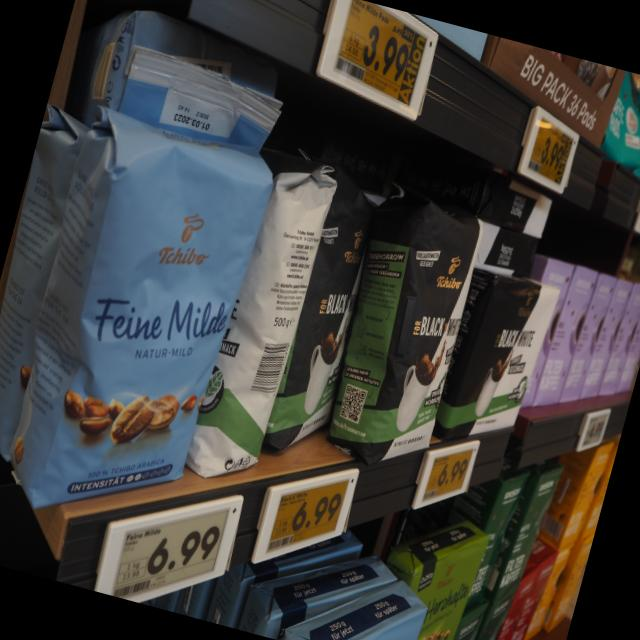BW Bohne: (194, 165, 340, 484), (355, 187, 489, 474), (264, 168, 384, 462)
BW Gemahlen: (434, 277, 560, 451)
FM Bohne: (26, 142, 274, 511)
